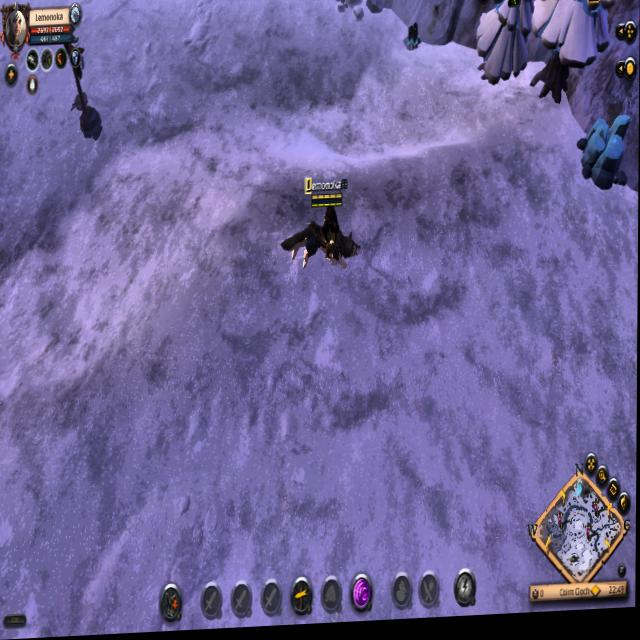rock tier 4: (576, 118, 631, 199)
